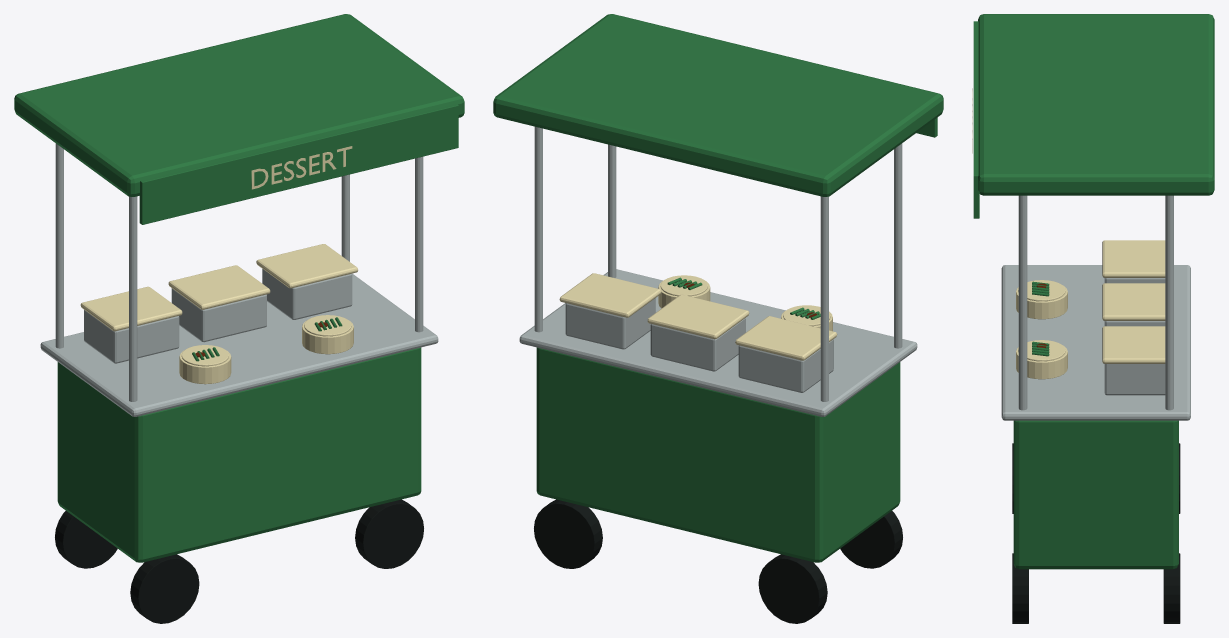
The model's file is edited.glb.
3 renders of one model, left to right at view 1: azimuth 30°, elevation 25°; view 2: azimuth 150°, elevation 25°; view 3: azimuth 270°, elevation 25°, orthographic.
Visible parts, largest first — view 1: CART_Cabinet, CANOPY_Roof, COUNTER_Surface, SIGN_Front, WHEEL_Rubber, WHEEL_Rubber.002, BIN_Ingredient.002, BIN_Ingredient.001, BIN_Ingredient, LID_Ingredient.001, LID_Ingredient.002, LID_Ingredient (+10 smaller); view 2: CART_Cabinet, CANOPY_Roof, COUNTER_Surface, WHEEL_Rubber.001, WHEEL_Rubber.003, BIN_Ingredient.002, BIN_Ingredient.001, BIN_Ingredient, LID_Ingredient.001, LID_Ingredient.002, LID_Ingredient, WHEEL_Rubber (+5 smaller); view 3: CANOPY_Roof, CART_Cabinet, COUNTER_Surface, LID_Ingredient, LID_Ingredient.001, LID_Ingredient.002, CANOPY_Post.003, BIN_Ingredient, CANOPY_Post, SIGN_Front, WHEEL_Rubber.003, WHEEL_Rubber.002 (+6 smaller).
Part boxes in pixels (bbox=[...]): CART_Cabinet: bbox=[57, 347, 421, 562]; CANOPY_Roof: bbox=[14, 14, 464, 196]; COUNTER_Surface: bbox=[40, 273, 438, 416]; SIGN_Front: bbox=[139, 103, 458, 224]; WHEEL_Rubber: bbox=[130, 554, 199, 623]; WHEEL_Rubber.002: bbox=[355, 499, 423, 568]; BIN_Ingredient.002: bbox=[171, 288, 266, 342]; BIN_Ingredient.001: bbox=[84, 310, 179, 363]; BIN_Ingredient: bbox=[262, 269, 352, 319]; LID_Ingredient.001: bbox=[168, 265, 270, 309]; LID_Ingredient.002: bbox=[256, 244, 358, 288]; LID_Ingredient: bbox=[80, 286, 182, 331]; CART_Cabinet: bbox=[536, 347, 900, 562]; CANOPY_Roof: bbox=[493, 14, 943, 196]; COUNTER_Surface: bbox=[519, 269, 917, 416]; WHEEL_Rubber.001: bbox=[758, 554, 827, 623]; WHEEL_Rubber.003: bbox=[534, 499, 602, 568]; BIN_Ingredient.002: bbox=[650, 318, 745, 371]; BIN_Ingredient.001: bbox=[738, 339, 833, 392]; BIN_Ingredient: bbox=[565, 298, 655, 349]; LID_Ingredient.001: bbox=[647, 294, 749, 339]; LID_Ingredient.002: bbox=[559, 273, 661, 317]; LID_Ingredient: bbox=[735, 316, 837, 360]; WHEEL_Rubber: bbox=[840, 511, 902, 568]; CANOPY_Roof: bbox=[978, 14, 1214, 195]; CART_Cabinet: bbox=[1013, 420, 1178, 569]; COUNTER_Surface: bbox=[1001, 265, 1190, 420]; LID_Ingredient: bbox=[1102, 240, 1165, 277]; LID_Ingredient.001: bbox=[1102, 283, 1165, 320]; LID_Ingredient.002: bbox=[1102, 326, 1165, 363]; CANOPY_Post.003: bbox=[1018, 195, 1027, 410]; BIN_Ingredient: bbox=[1104, 364, 1165, 395]; CANOPY_Post: bbox=[1165, 195, 1173, 410]; SIGN_Front: bbox=[973, 21, 979, 218]; WHEEL_Rubber.003: bbox=[1163, 553, 1180, 623]; WHEEL_Rubber.002: bbox=[1012, 553, 1028, 623].
Size of the model in its own units: 1.65 by 2.2 by 1.02.
